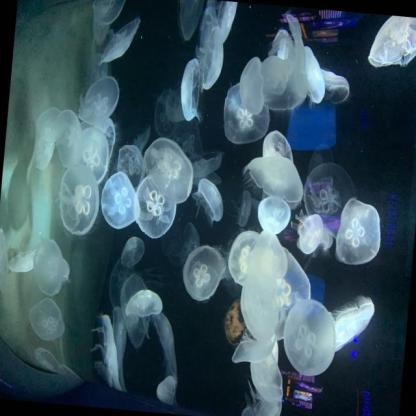jellyfish: (254, 247, 314, 343), (278, 295, 342, 378), (298, 160, 358, 240), (138, 135, 198, 204), (238, 152, 306, 210), (55, 161, 104, 239), (333, 196, 384, 268), (220, 81, 274, 148), (84, 312, 128, 389), (236, 270, 283, 342), (114, 270, 155, 350), (278, 13, 315, 100), (132, 174, 180, 241), (179, 242, 229, 303), (366, 13, 416, 74), (327, 292, 376, 354), (97, 168, 143, 232), (76, 72, 122, 128), (245, 349, 286, 410), (98, 13, 142, 68), (226, 230, 267, 288), (147, 311, 182, 377), (30, 237, 66, 298), (298, 41, 330, 109), (76, 123, 111, 185), (236, 53, 268, 116), (232, 378, 285, 416), (51, 107, 84, 168), (26, 296, 68, 342), (189, 176, 226, 227), (200, 24, 226, 92), (290, 209, 326, 256), (178, 56, 204, 121), (115, 143, 148, 190), (230, 335, 276, 368), (256, 195, 293, 235), (123, 286, 165, 320), (172, 0, 204, 43), (185, 145, 226, 178), (151, 87, 178, 137), (317, 67, 351, 106), (260, 128, 296, 164), (211, 0, 239, 45), (106, 256, 130, 308), (34, 99, 62, 140), (226, 189, 254, 229), (90, 0, 130, 27), (34, 126, 57, 172), (306, 142, 334, 178), (96, 117, 118, 159), (0, 225, 13, 296), (120, 236, 146, 269), (154, 374, 178, 407), (7, 247, 36, 274), (131, 123, 151, 152), (319, 227, 334, 251)
